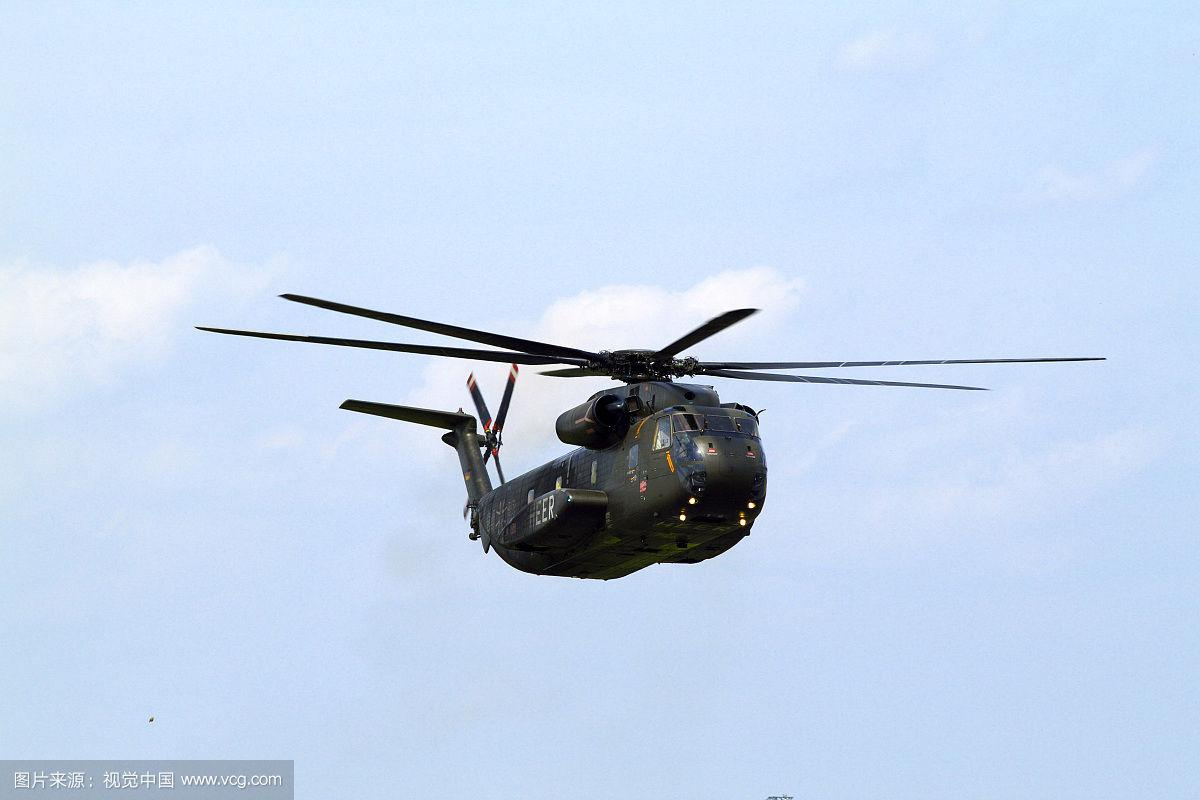airplane: (128, 262, 1111, 593)
